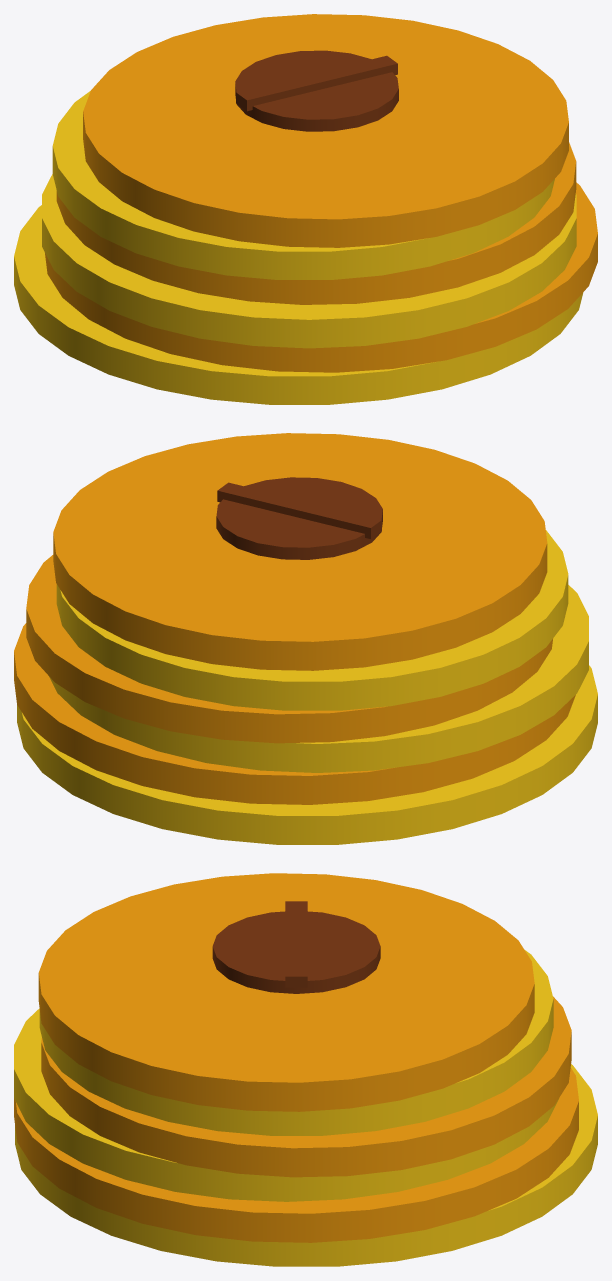
Rendered from toy_castle_coin_stack.glb.
3 renders of one model, top to bottom at view 1: azimuth 30°, elevation 25°; view 2: azimuth 150°, elevation 25°; view 3: azimuth 270°, elevation 25°, orthographic. The views are drawn at different scales.
Visible parts, largest first — view 1: solid_6, solid_3, solid_1, solid_5, solid_2, solid_4, solid_7, solid_8; view 2: solid_6, solid_1, solid_5, solid_2, solid_4, solid_3, solid_7, solid_8; view 3: solid_6, solid_2, solid_4, solid_1, solid_3, solid_5, solid_7, solid_8.
Part boxes in pixels (<box>): solid_6: <box>83,14,568,247</box>; solid_3: <box>42,174,576,348</box>; solid_1: <box>14,205,583,404</box>; solid_5: <box>52,90,554,279</box>; solid_2: <box>45,182,597,372</box>; solid_4: <box>56,142,576,304</box>; solid_7: <box>235,50,398,131</box>; solid_8: <box>236,55,397,111</box>; solid_6: <box>53,433,547,670</box>; solid_1: <box>17,665,597,844</box>; solid_5: <box>56,530,568,710</box>; solid_2: <box>14,623,575,804</box>; solid_4: <box>26,555,552,743</box>; solid_3: <box>49,585,588,772</box>; solid_7: <box>216,477,382,559</box>; solid_8: <box>217,482,381,538</box>; solid_6: <box>38,873,534,1111</box>; solid_2: <box>14,1068,578,1242</box>; solid_4: <box>41,996,571,1177</box>; solid_1: <box>15,1064,597,1266</box>; solid_3: <box>14,1008,559,1201</box>; solid_5: <box>39,950,553,1135</box>; solid_7: <box>212,911,380,993</box>; solid_8: <box>285,901,307,987</box>.
Size of the model in its own units: 2.4 by 0.945 by 2.36.
